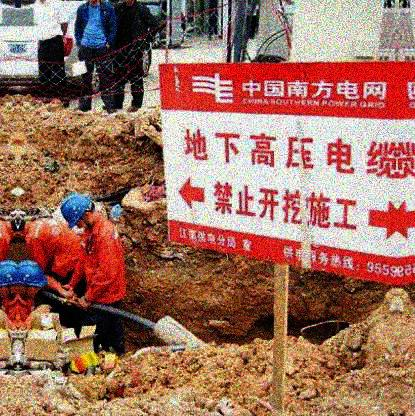helmet: (62, 196, 95, 230), (19, 260, 45, 296), (1, 259, 20, 297)
